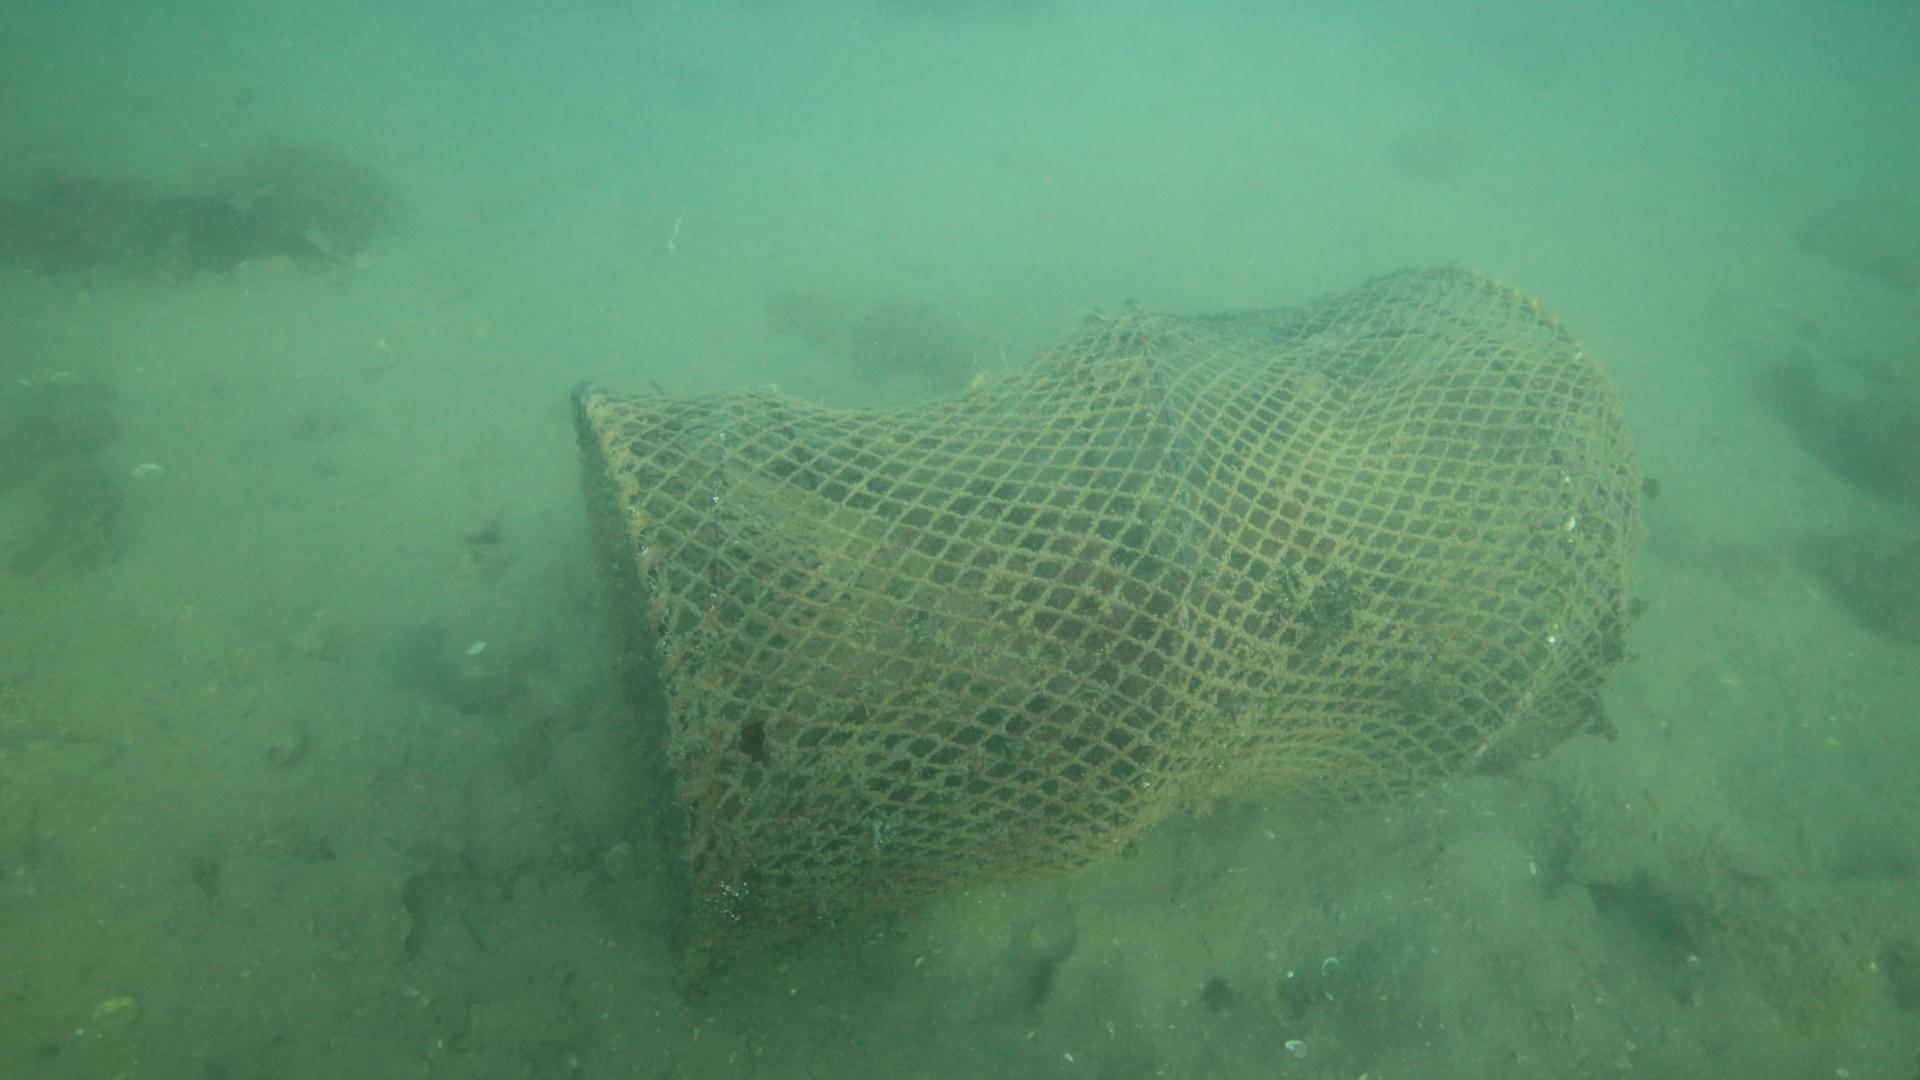spring fish trap: (568, 264, 1640, 992)
